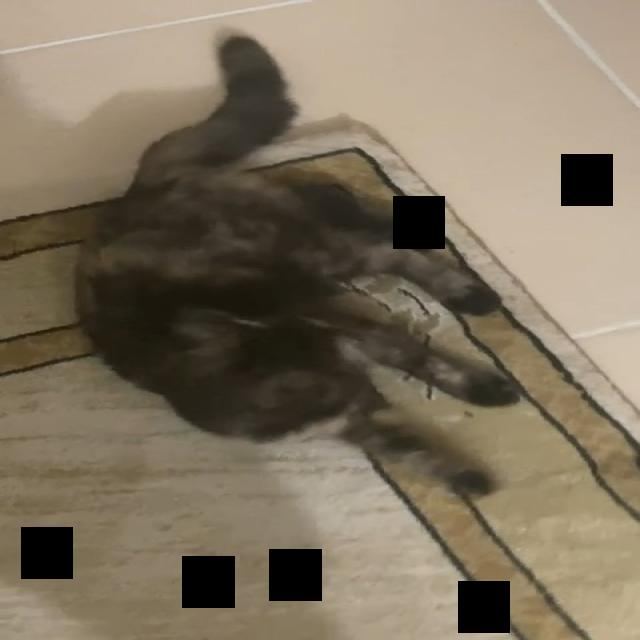authorized: (71, 28, 521, 499)
